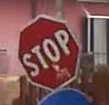stop: (16, 11, 79, 95)
